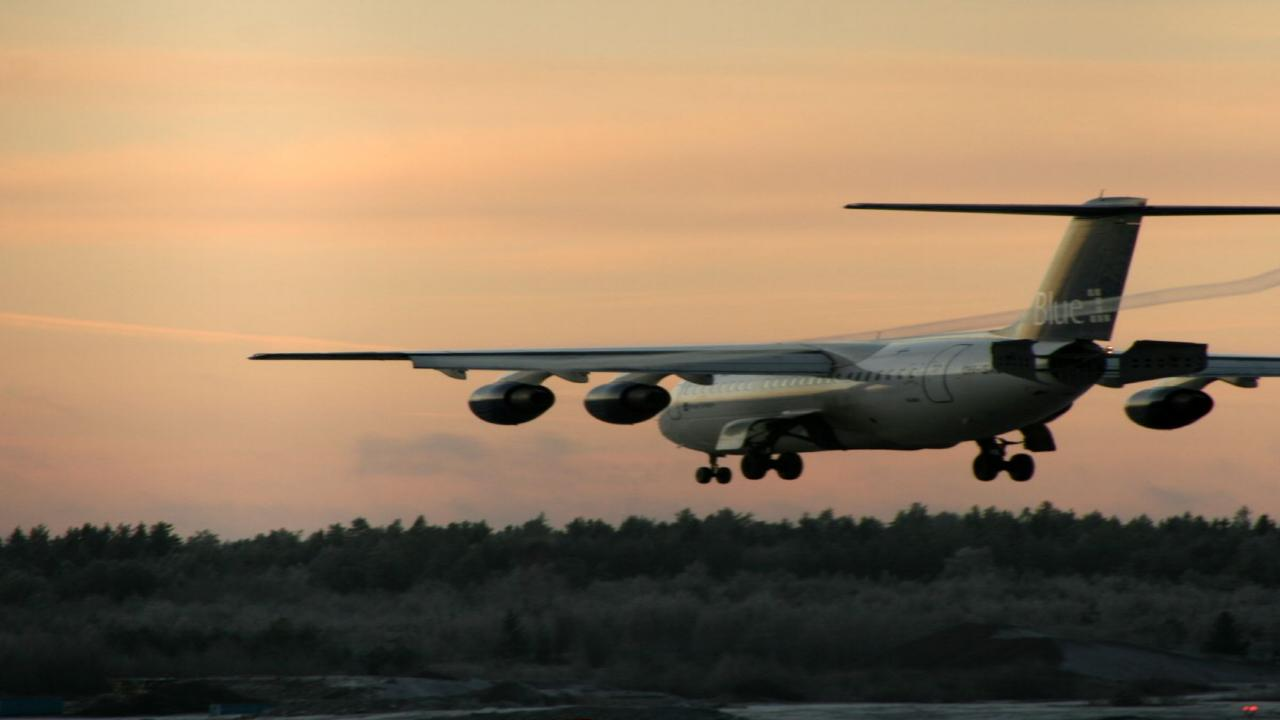Airplane: (225, 180, 1280, 496)
